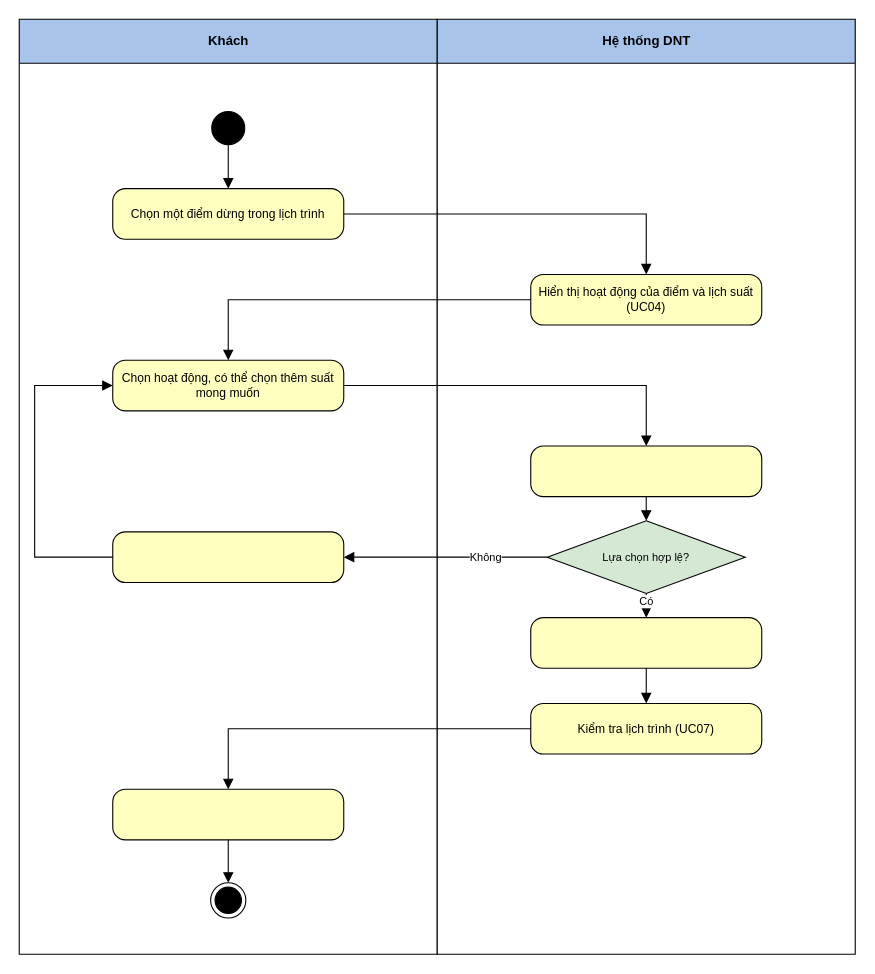
This 875x974 diagram has some shape labels left out. Here are the shapes that lost their labels. From the top down, the centre of each, then its label:
(x=646, y=471): Kiểm tra hoạt động thuộc điểm, suất đúng ngày, không tạm ngừng, không trùng
(x=228, y=556): Cảnh báo suất sai ngày, tạm ngừng hoặc trùng
(x=646, y=642): Thêm vào điểm dừng với ghi chú "cần xác minh"; không tạo đơn, không trừ chỗ
(x=228, y=814): Xem cảnh báo, giữ hoặc đổi lựa chọn
